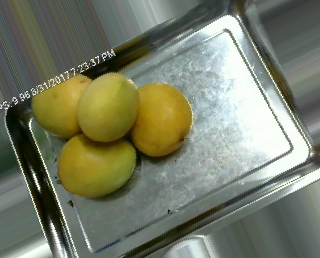Mango: (58, 135, 135, 195), (128, 85, 193, 155), (78, 73, 139, 142), (31, 72, 95, 134)
